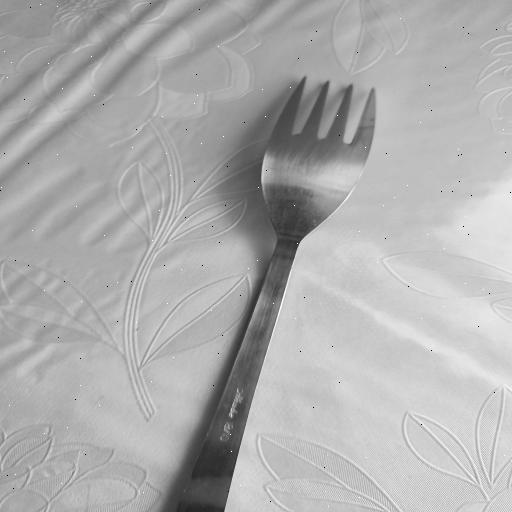fork: (168, 77, 378, 512)
